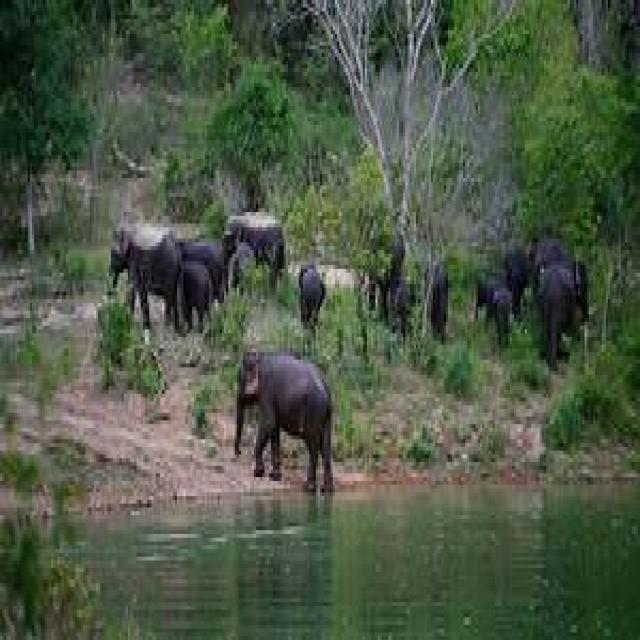elephant: (237, 356, 335, 492), (111, 227, 222, 333)
